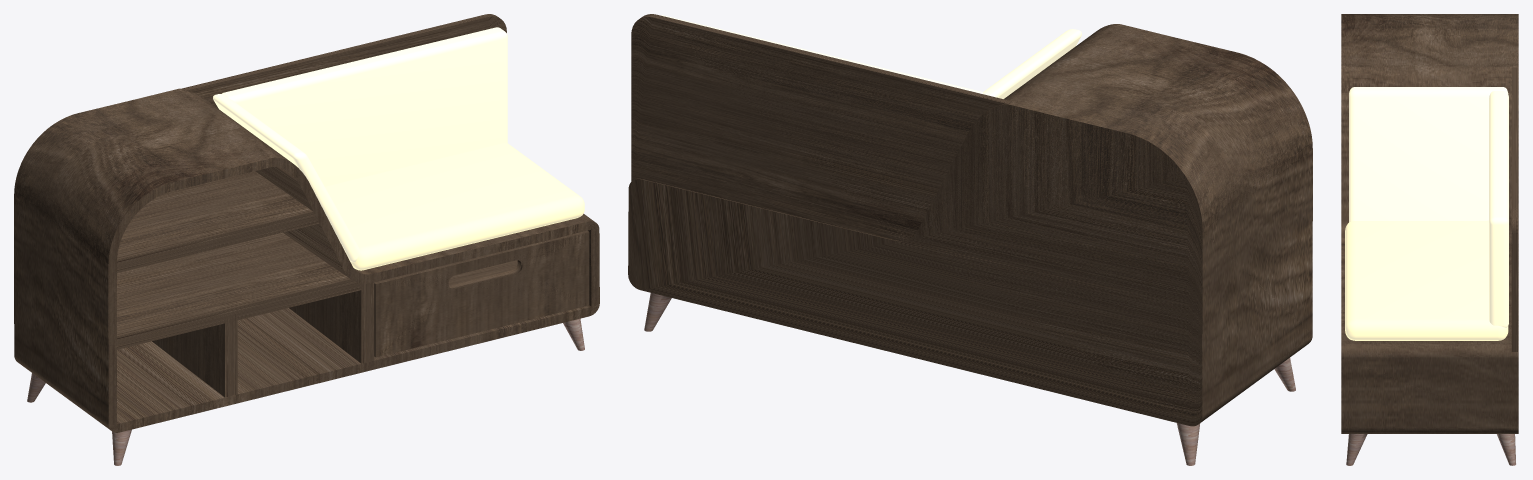
Rendered from entryway_bench_with_drawer_01.glb.
3 renders of one model, left to right at view 1: azimuth 30°, elevation 25°; view 2: azimuth 150°, elevation 25°; view 3: azimuth 270°, elevation 25°, orthographic. The views are drawn at different scales.
Visible parts, largest first — view 1: Extrude, Cube_7, Cube_3, Cube_4, Boole, Cube_5, Cube_1, Cube; view 2: Extrude, Cube_5, Cube_7; view 3: Extrude, Cube_7, Cube_4, Cube_5, Loft_1, Loft_3.
Boxes of the visible parts, x1=… form: Extrude: x1=14, y1=88, x2=599, y2=432; Cube_7: x1=213, y1=27, x2=507, y2=262; Cube_3: x1=117, y1=171, x2=361, y2=349; Cube_4: x1=325, y1=143, x2=584, y2=270; Boole: x1=374, y1=230, x2=589, y2=357; Cube_5: x1=181, y1=14, x2=506, y2=108; Cube_1: x1=152, y1=313, x2=237, y2=397; Cube: x1=289, y1=282, x2=374, y2=363; Extrude: x1=628, y1=24, x2=1312, y2=426; Cube_5: x1=631, y1=14, x2=1011, y2=240; Cube_7: x1=661, y1=15, x2=1081, y2=98; Extrude: x1=1341, y1=14, x2=1518, y2=433; Cube_7: x1=1349, y1=87, x2=1508, y2=327; Cube_4: x1=1345, y1=220, x2=1508, y2=340; Cube_5: x1=1511, y1=67, x2=1517, y2=351; Loft_1: x1=1346, y1=434, x2=1367, y2=465; Loft_3: x1=1497, y1=434, x2=1515, y2=465.
Bounding box in the file's own units: 7.52 × 3.99 × 2.5.
Materials: 13 (11 with a texture image).
